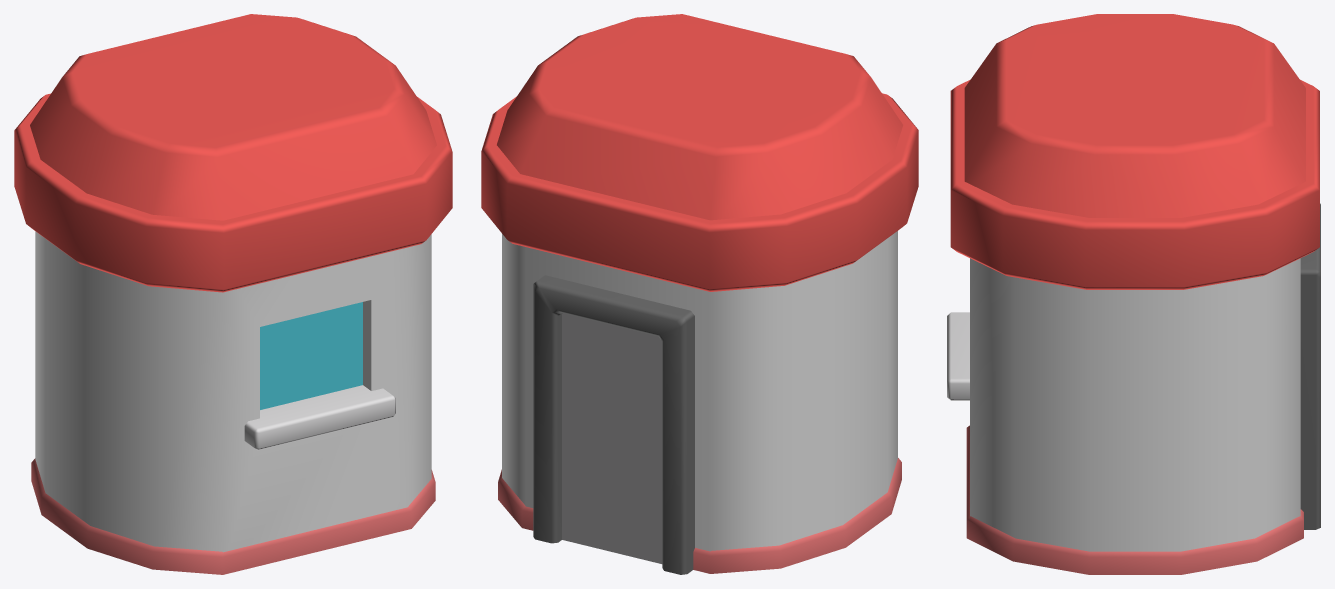
Rendered from ticket_stall_003.gltf.
The picture shows the model from 3 angles, left to right: view 1: azimuth 30°, elevation 25°; view 2: azimuth 150°, elevation 25°; view 3: azimuth 270°, elevation 25°; orthographic projection.
Parts seen in each view (by area): view 1: ticket_stall_003; view 2: ticket_stall_003; view 3: ticket_stall_003.
Part boxes in pixels (left/top/right/bottom): ticket_stall_003: left=14, top=14, right=452, bottom=574; ticket_stall_003: left=481, top=14, right=918, bottom=574; ticket_stall_003: left=947, top=14, right=1320, bottom=574.
Bounding box in the file's own units: 3.12 × 3.34 × 2.75.
Materials: 1 (1 with a texture image).
